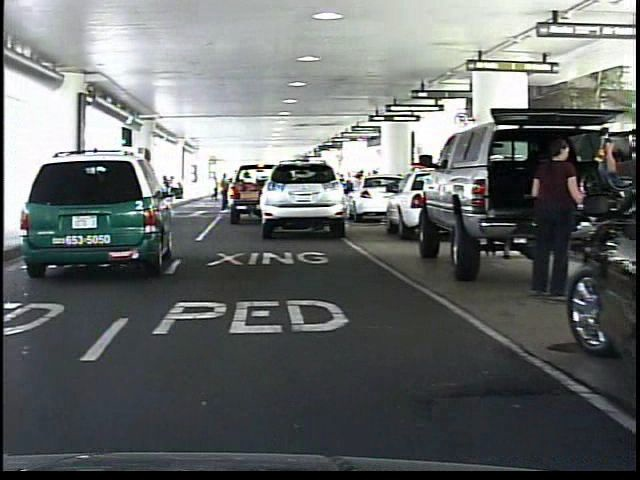person: (515, 137, 583, 305)
